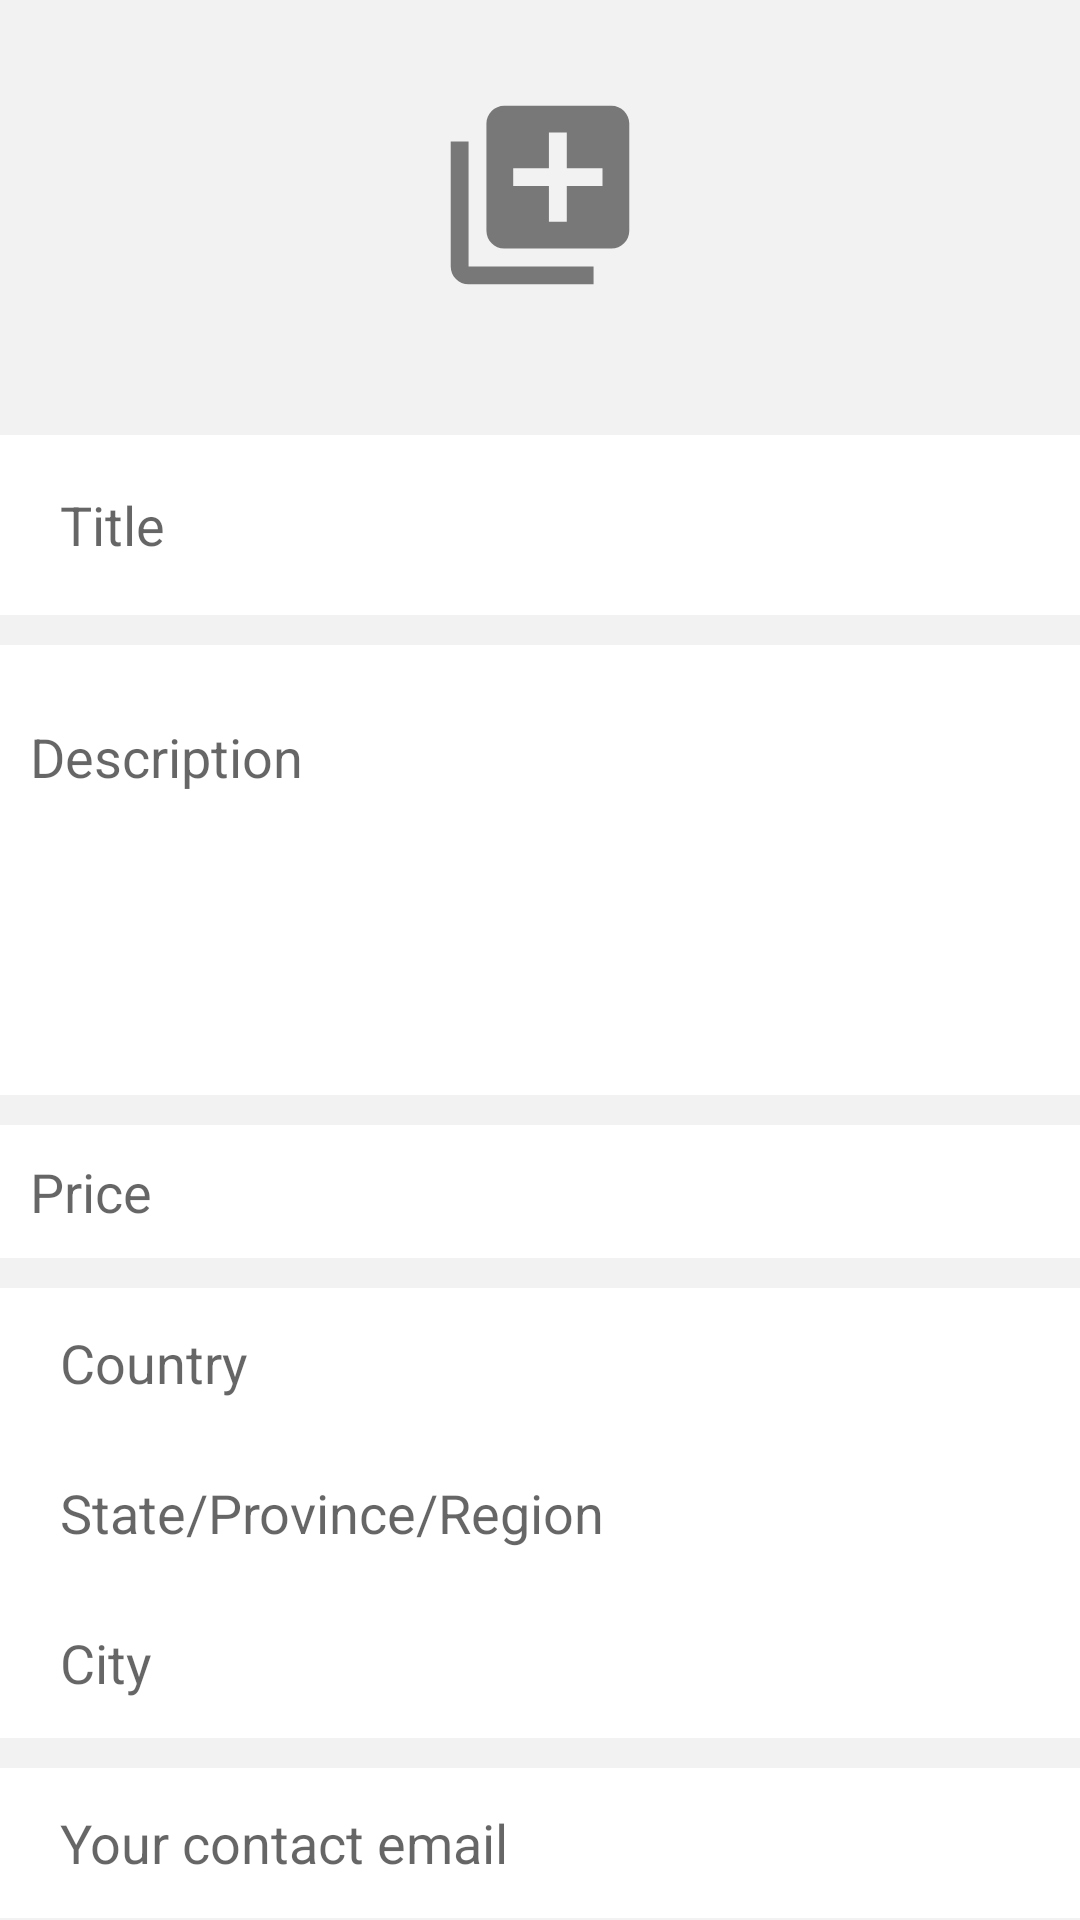

Icon bounding boxes for this 1080w x 1920h phone screenshot, format (x1, y1, x2, y2):
add: (450, 105, 630, 285)
